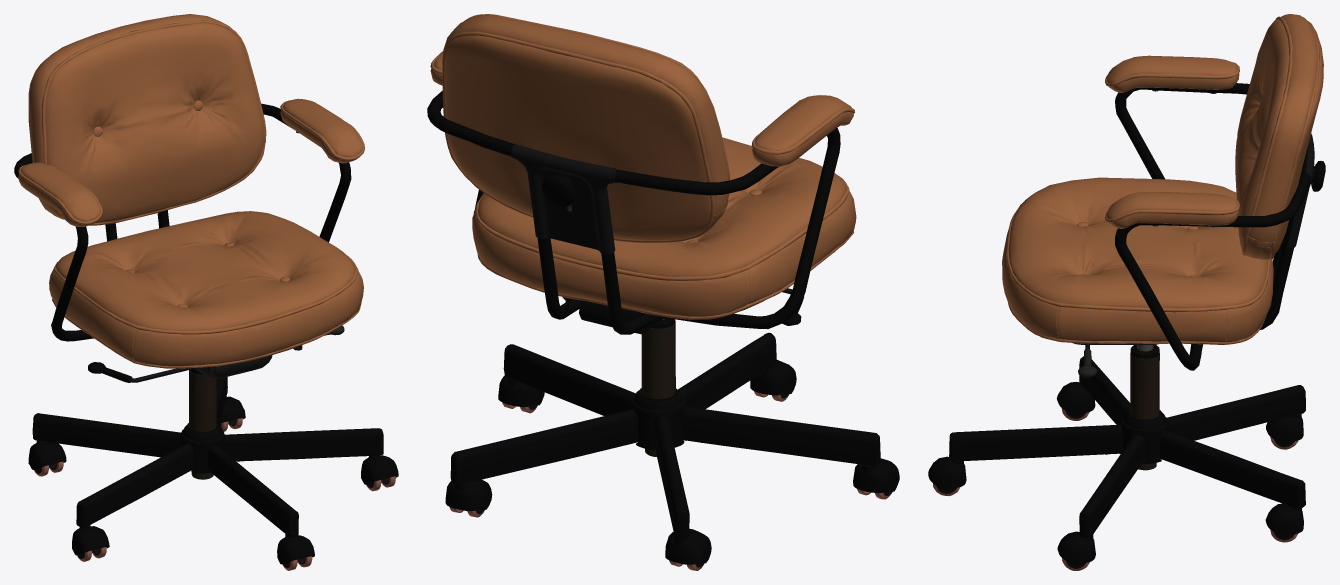
Rendered from 06 - ALEFJÄLL - 辦公椅, Grann 金棕色 IKEA 線上購物.glb.
3 renders of one model, left to right at view 1: azimuth 30°, elevation 25°; view 2: azimuth 150°, elevation 25°; view 3: azimuth 270°, elevation 25°, orthographic. The views are drawn at different scales.
Visible parts, largest first — view 1: 1; view 2: 1; view 3: 1.
Part boxes in pixels (x1,y1,x2,y2): 1: (14, 14, 398, 570); 1: (427, 14, 899, 570); 1: (928, 14, 1325, 570).
Size of the model in its own units: 0.6744 by 0.8458 by 0.6851.
Materials: 1 (1 with a texture image).
